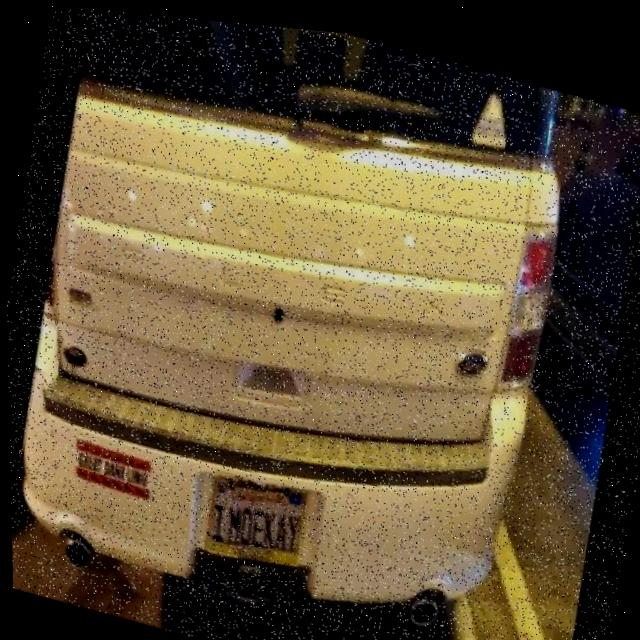LicensePlate: (200, 464, 307, 567)
